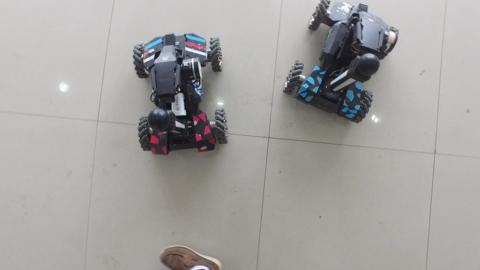chariot: (275, 1, 405, 128), (126, 23, 232, 161)
